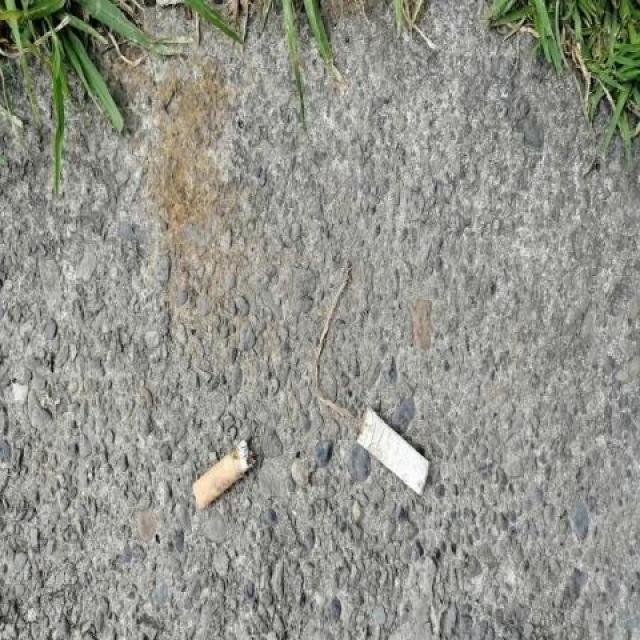non-organic waste: (346, 399, 434, 498), (186, 433, 258, 511)
